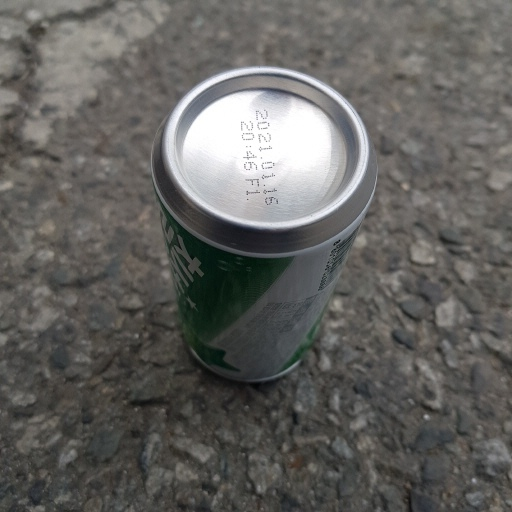Metal_0: (149, 62, 378, 390)
